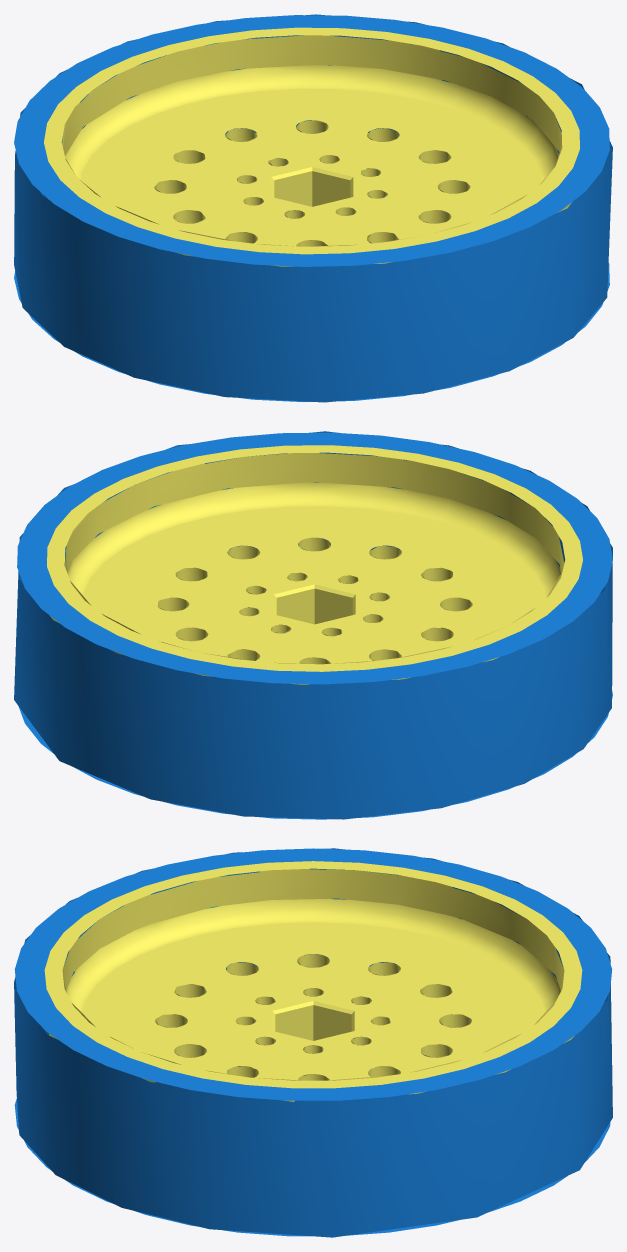
File: drive_wheel.dae
3 renders of one model, top to bottom at view 1: azimuth 30°, elevation 25°; view 2: azimuth 150°, elevation 25°; view 3: azimuth 270°, elevation 25°, orthographic.
Visible parts, largest first — view 1: 100mm Drive Wheel; view 2: 100mm Drive Wheel; view 3: 100mm Drive Wheel.
Boxes of the visible parts, box(x1,y1,x2,y2) form: 100mm Drive Wheel: box(14, 14, 612, 402); 100mm Drive Wheel: box(14, 431, 612, 819); 100mm Drive Wheel: box(14, 848, 612, 1237).
Size of the model in its own units: 0.1004 by 0.1002 by 0.025.
